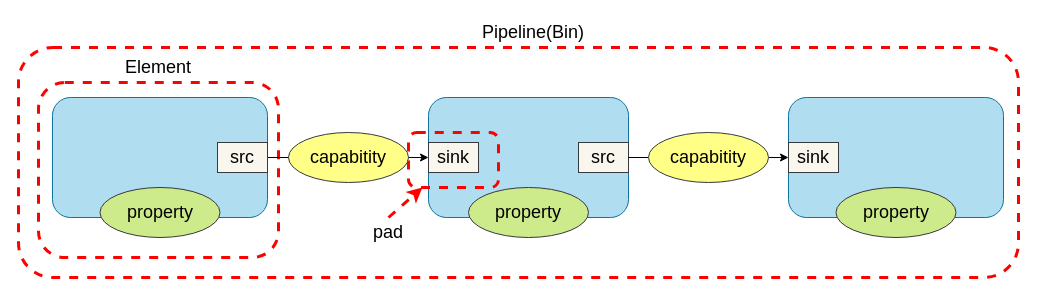
Some shapes in this 1037 by 296 pixel diagram are drawn without their labels. Here are the shapes that lost their labels. From the top down, the box of each, then its label:
(52, 96, 268, 218): BaseSrc
(428, 96, 628, 218): BaseTransformer
(788, 96, 1004, 218): Basesink
